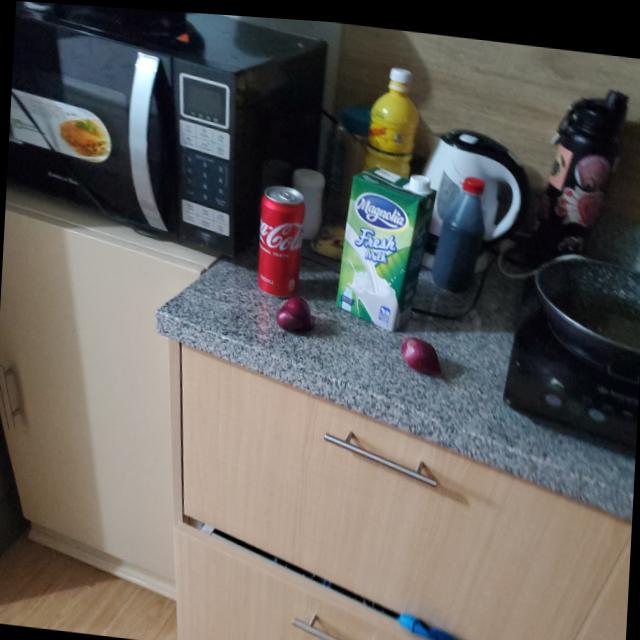coke: (257, 178, 310, 296)
milk: (338, 155, 437, 329)
onion: (402, 330, 446, 371), (276, 293, 316, 329)
